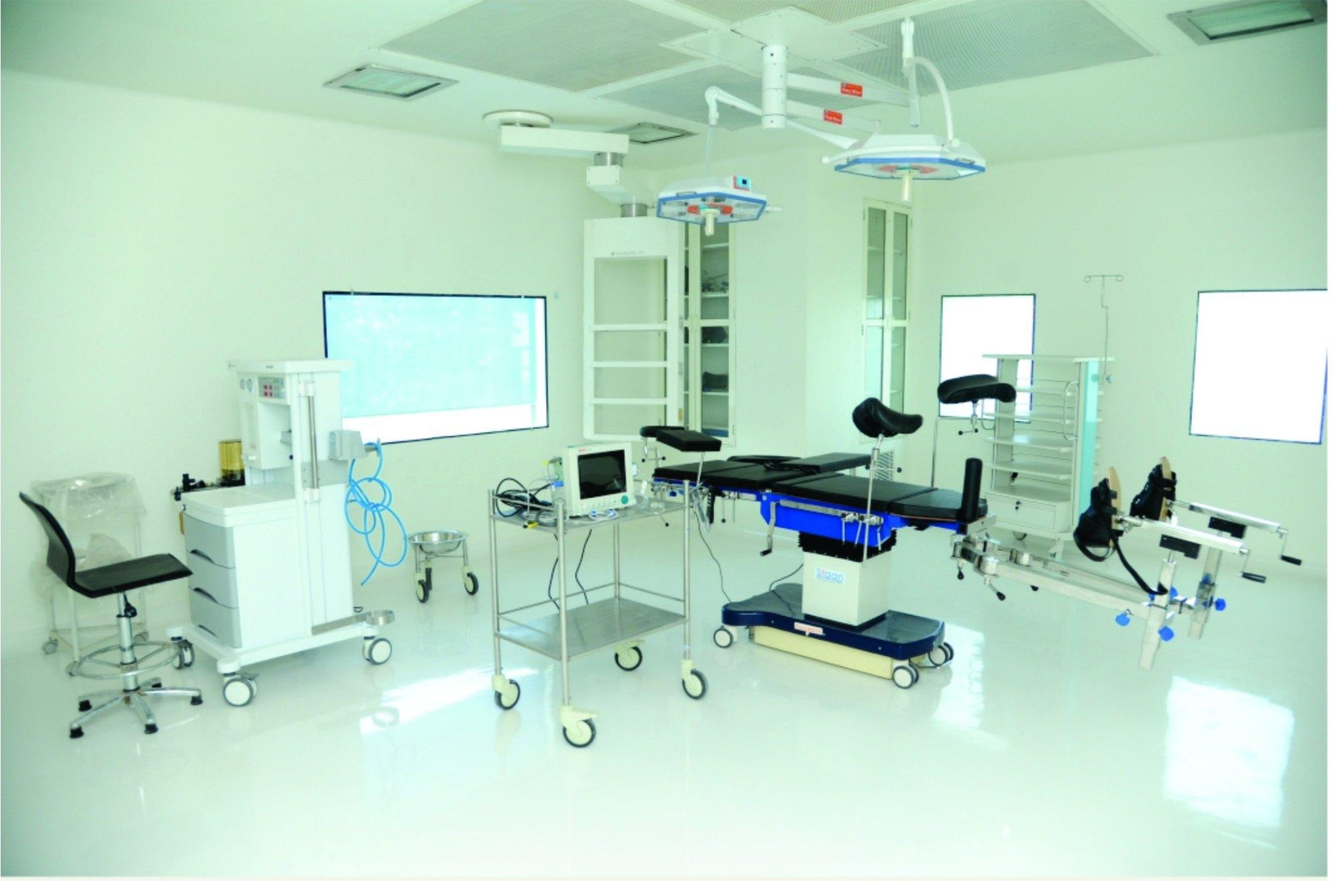Monitor: (561, 432, 631, 518)
bed: (649, 418, 995, 687)
chair: (25, 466, 214, 744)
tools_table: (455, 459, 709, 754)
